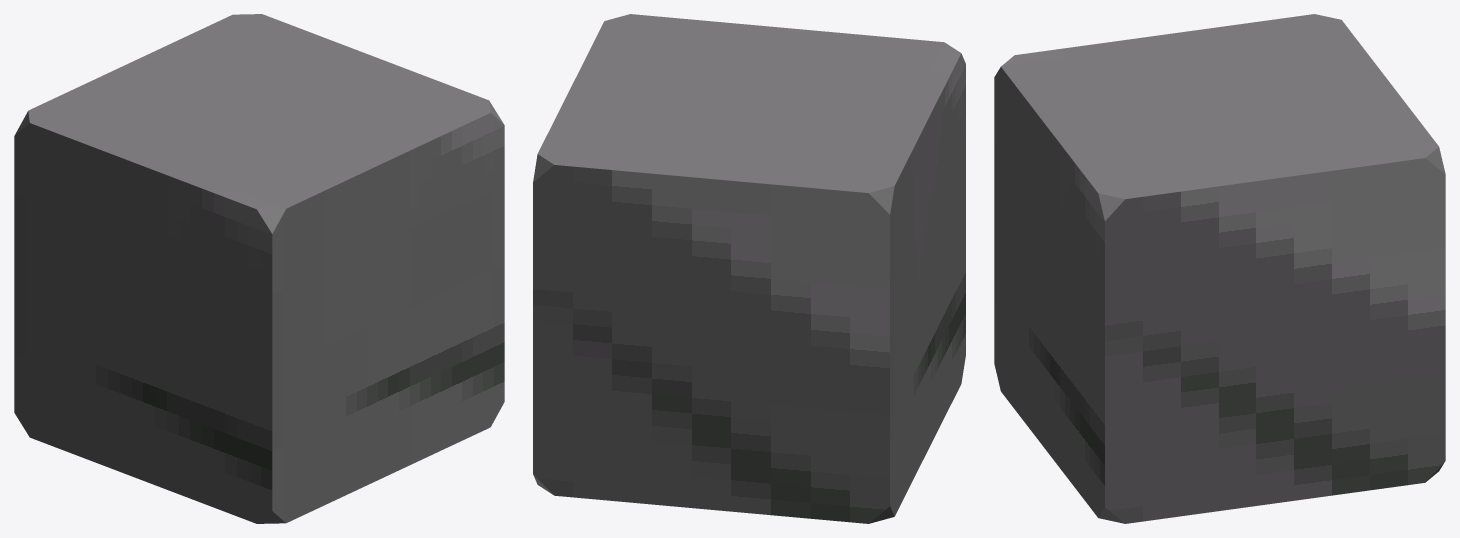
The model's file is Building_StoneCubeSculpture__C.obj.
The picture shows the model from 3 angles, left to right: view 1: azimuth 30°, elevation 25°; view 2: azimuth 150°, elevation 25°; view 3: azimuth 270°, elevation 25°; orthographic projection. The views are drawn at different scales.
Visible parts, largest first — view 1: Body; view 2: Body; view 3: Body.
Part boxes in pixels (x1=…): Body: x1=14, y1=14, x2=504, y2=523; Body: x1=533, y1=14, x2=965, y2=523; Body: x1=994, y1=14, x2=1445, y2=523.
Bounding box in the file's own units: 0.63 × 0.5 × 0.63.
1 material, 1 textured.
